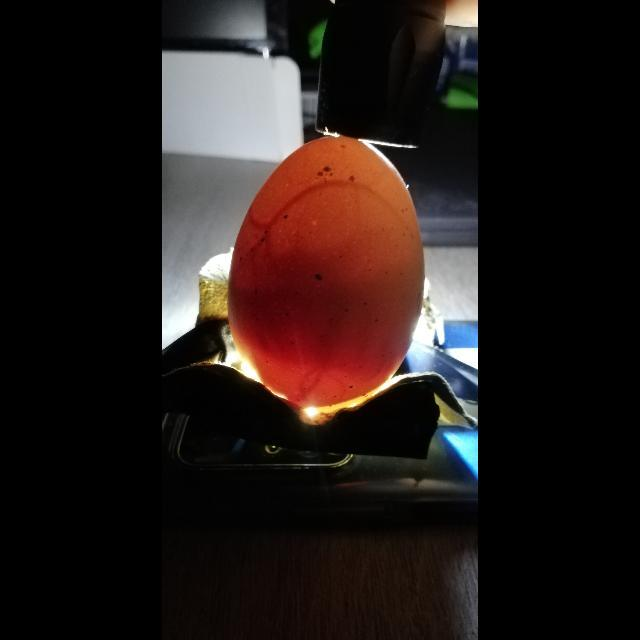Fertile: (224, 136, 428, 412)
